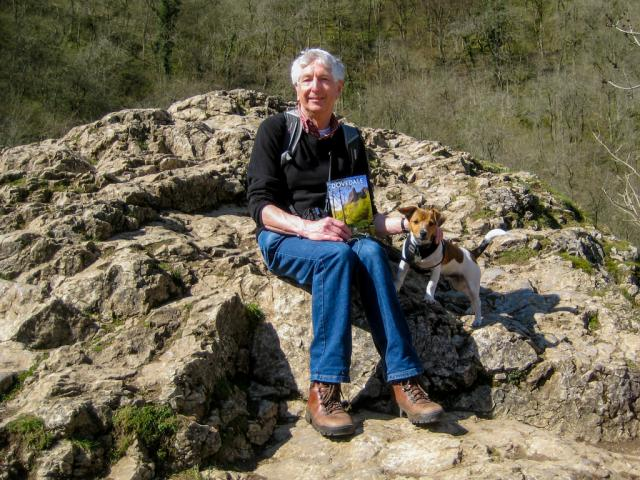Dog: (396, 203, 483, 328)
